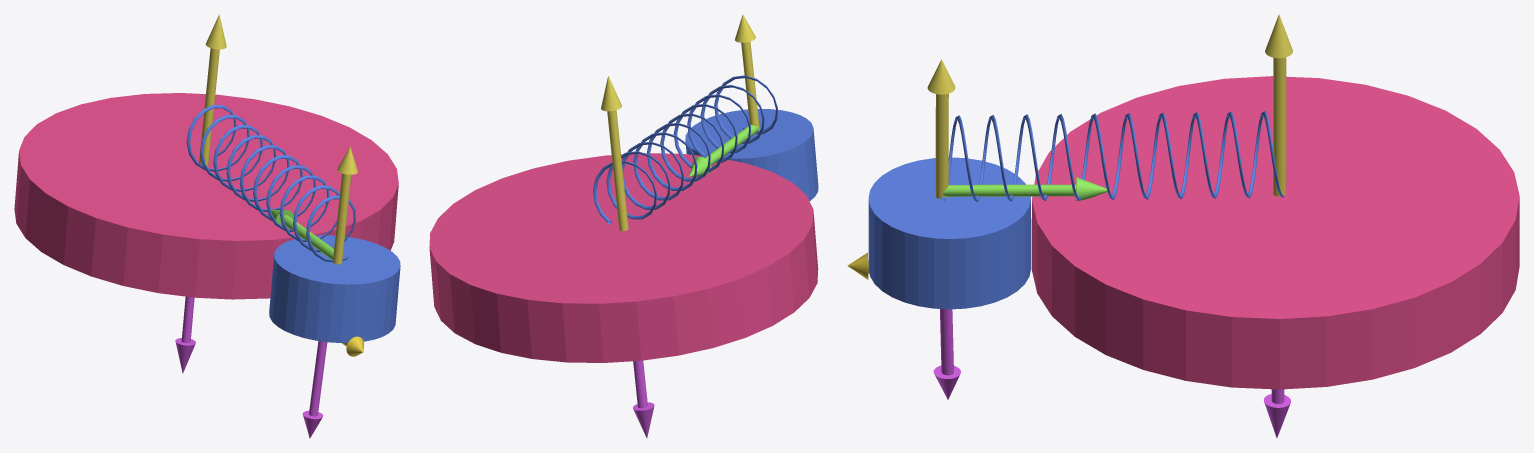
The model's file is cilindroVilaseca.glb.
3 views of the same model, side by side, from view 1: azimuth 30°, elevation 25°; view 2: azimuth 150°, elevation 25°; view 3: azimuth 270°, elevation 25° (orthographic). The views are drawn at different scales.
Parts seen in each view (by area): view 1: Cylinder.001, Cylinder.007, Cylinder.003, Cylinder.005; view 2: Cylinder.001, Cylinder.007, Cylinder.003, Cylinder.005; view 3: Cylinder.001, Cylinder.007, Cylinder.003, Cylinder.005.
Part boxes in pixels (x1,y1,x2,y2): Cylinder.001: [14, 93, 398, 299]; Cylinder.007: [186, 105, 400, 438]; Cylinder.003: [199, 14, 226, 166]; Cylinder.005: [175, 296, 195, 373]; Cylinder.001: [429, 153, 818, 362]; Cylinder.007: [593, 14, 818, 224]; Cylinder.003: [601, 76, 628, 231]; Cylinder.005: [633, 360, 654, 438]; Cylinder.001: [1031, 76, 1519, 389]; Cylinder.007: [847, 59, 1283, 399]; Cylinder.003: [1265, 14, 1292, 196]; Cylinder.005: [1263, 389, 1290, 438].
Bounding box in the file's own units: 6.06 × 6.08 × 8.27.
